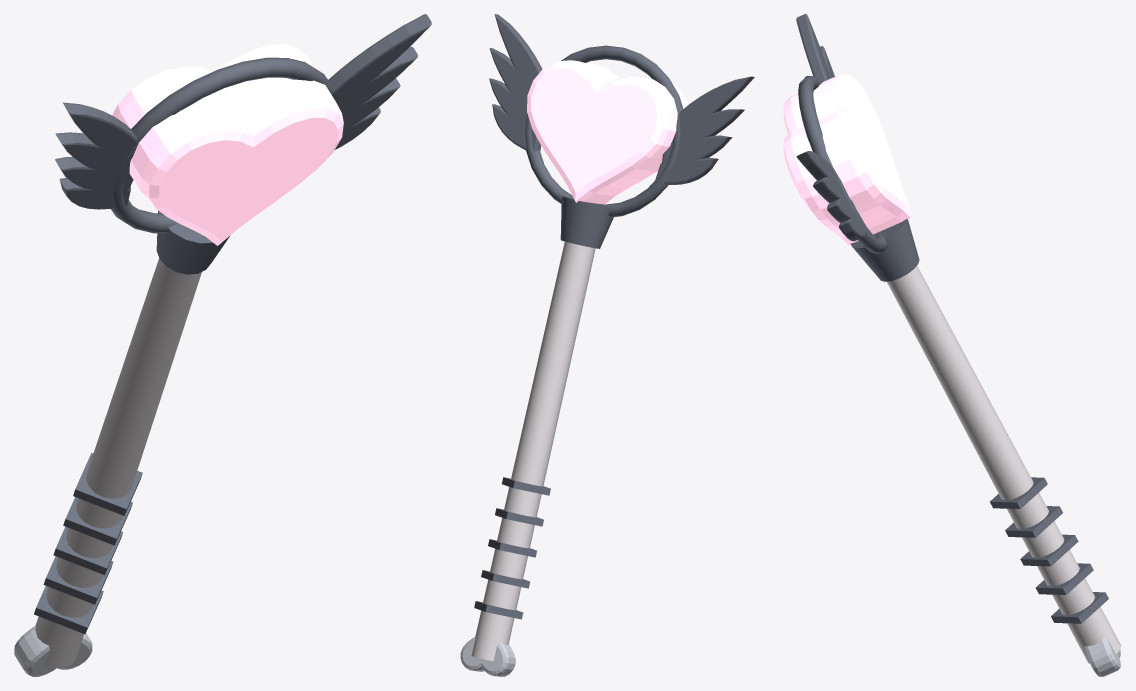
Rendered from hand_eqmo0.glb.
3 renders of one model, left to right at view 1: azimuth 30°, elevation 25°; view 2: azimuth 150°, elevation 25°; view 3: azimuth 270°, elevation 25°, orthographic. The views are drawn at different scales.
Size of the model in its own units: 2 by 3.95 by 2.07.
